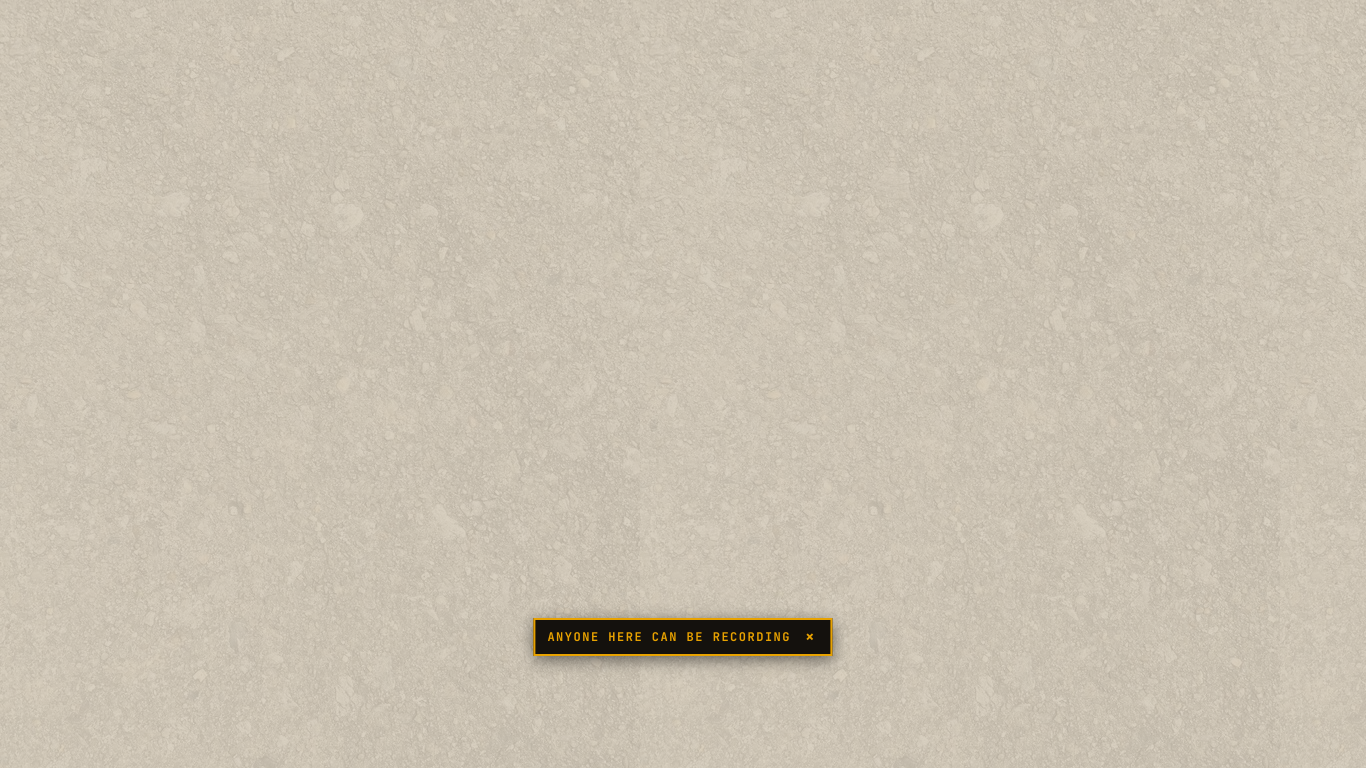
Test: RecordingDisclosureBanner › manual dismiss via the × button hides the banner immediately
The image size is (1366, 768).
Click the button with test id "recording-disclosure-dismiss". click: {"x": 810, "y": 637}
box: [801,629,819,645]
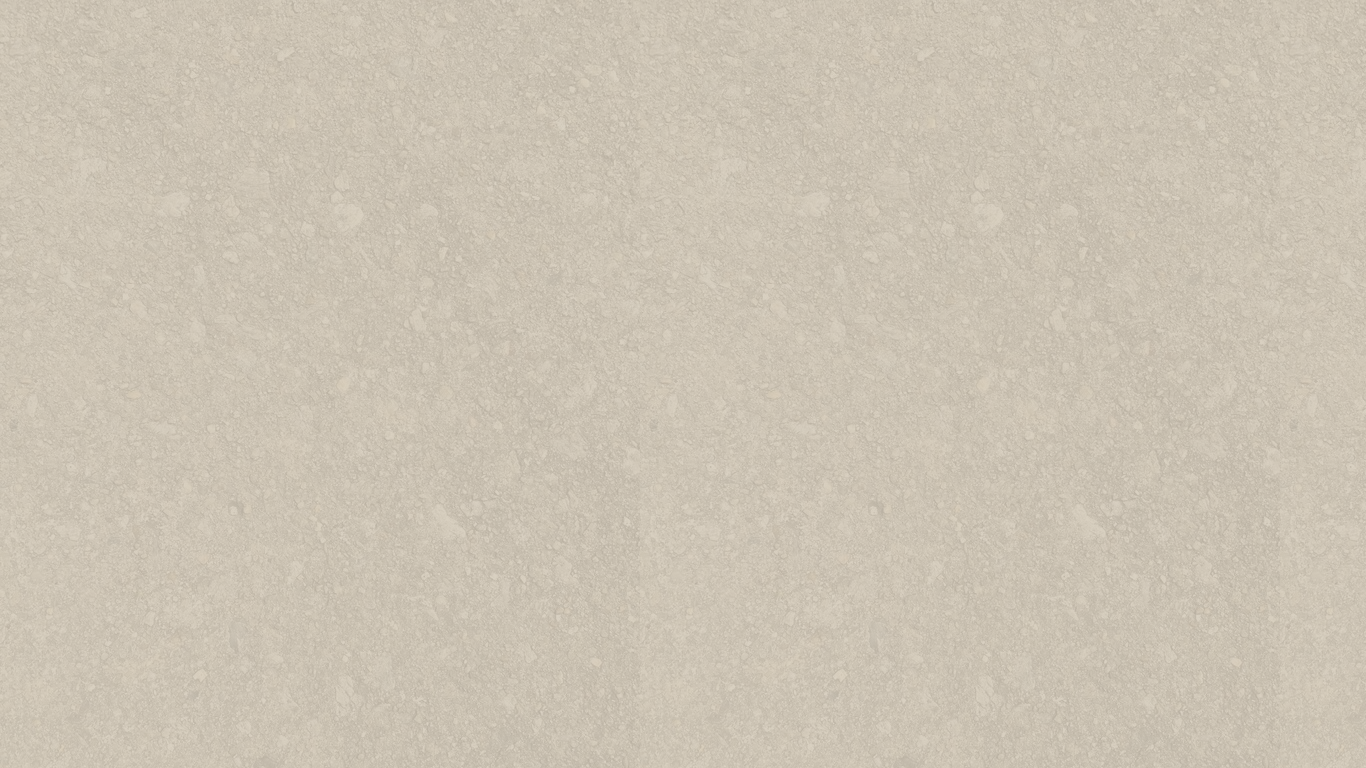
Expected: the message with test id "recording-disclosure-banner" is gone
